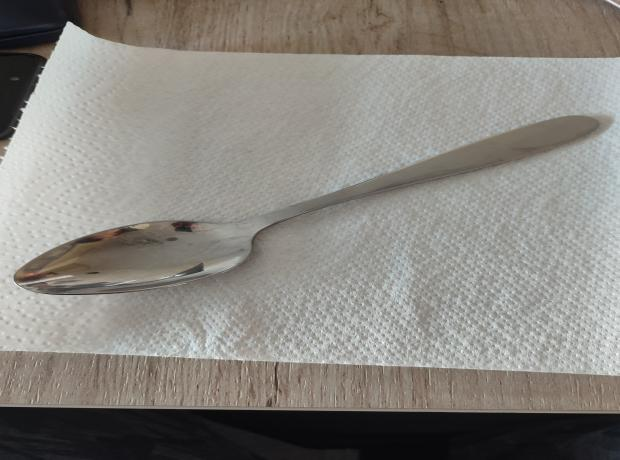metal: (11, 112, 604, 296)
